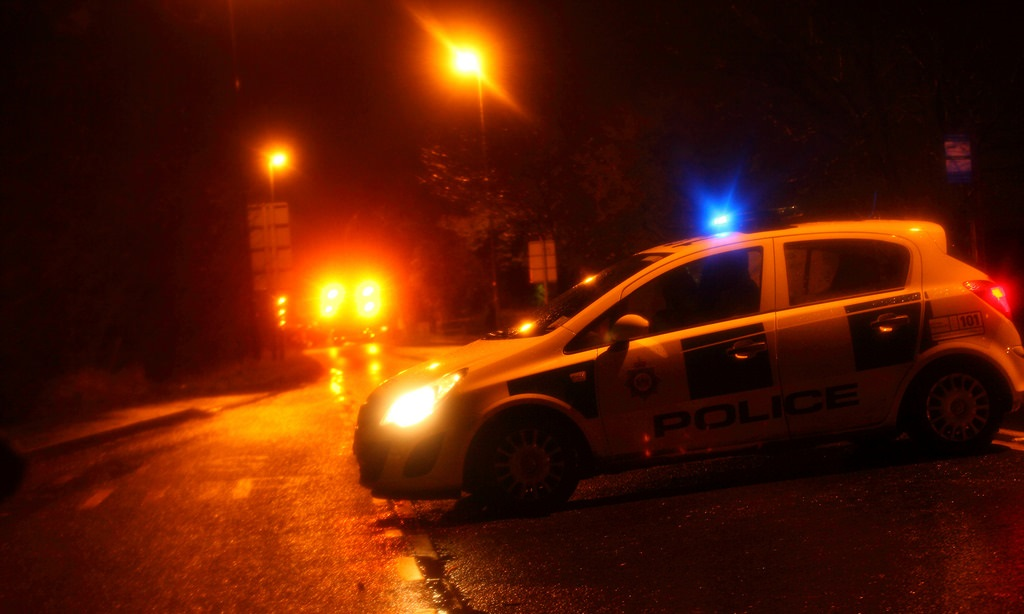car: (336, 204, 1017, 530)
